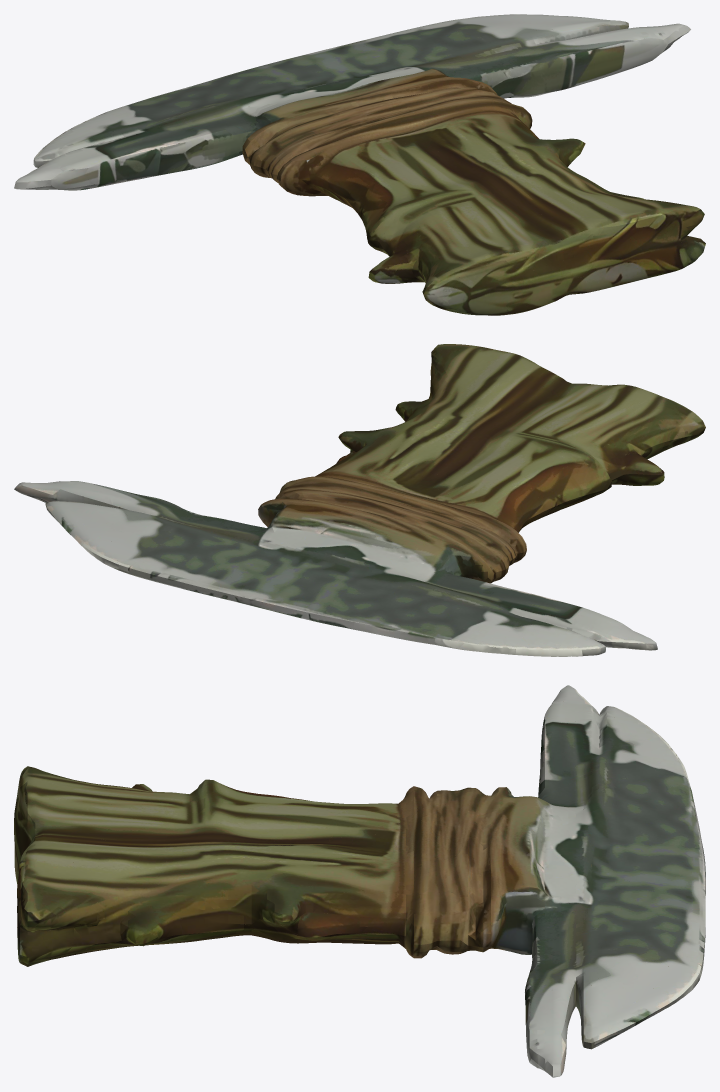
Rendered from weapon_spear.glb.
3 views of the same model, one above another, from view 1: azimuth 30°, elevation 25°; view 2: azimuth 150°, elevation 25°; view 3: azimuth 270°, elevation 25° (orthographic). The views are drawn at different scales.
Visible parts, largest first — view 1: weapon_spear; view 2: weapon_spear; view 3: weapon_spear.
Boxes of the visible parts, x1=… form: weapon_spear: x1=14, y1=14, x2=705, y2=315; weapon_spear: x1=14, y1=344, x2=705, y2=656; weapon_spear: x1=14, y1=685, x2=705, y2=1077.
Size of the model in its own units: 1.6 by 0.169 by 1.21.
Materials: 1 (1 with a texture image).
